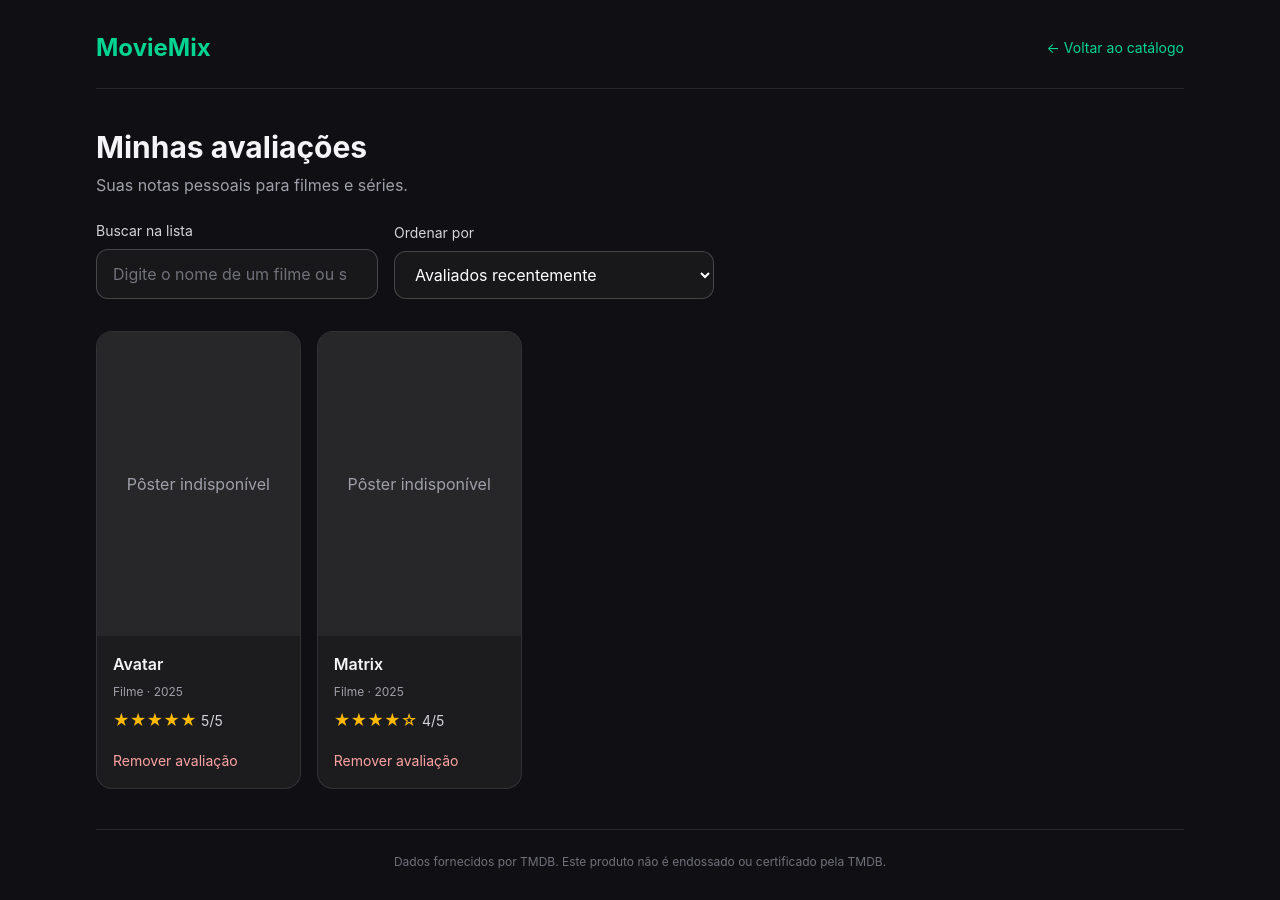
Test: busca nas listas pessoais › busca nas avaliações
Expected: the heading "Matrix" is shown, [334,654,383,674]
Type "inexistente" into the search field labelled "Buscar na lista".
click(237, 274); type("inexistente")  # box [96,249,378,299]
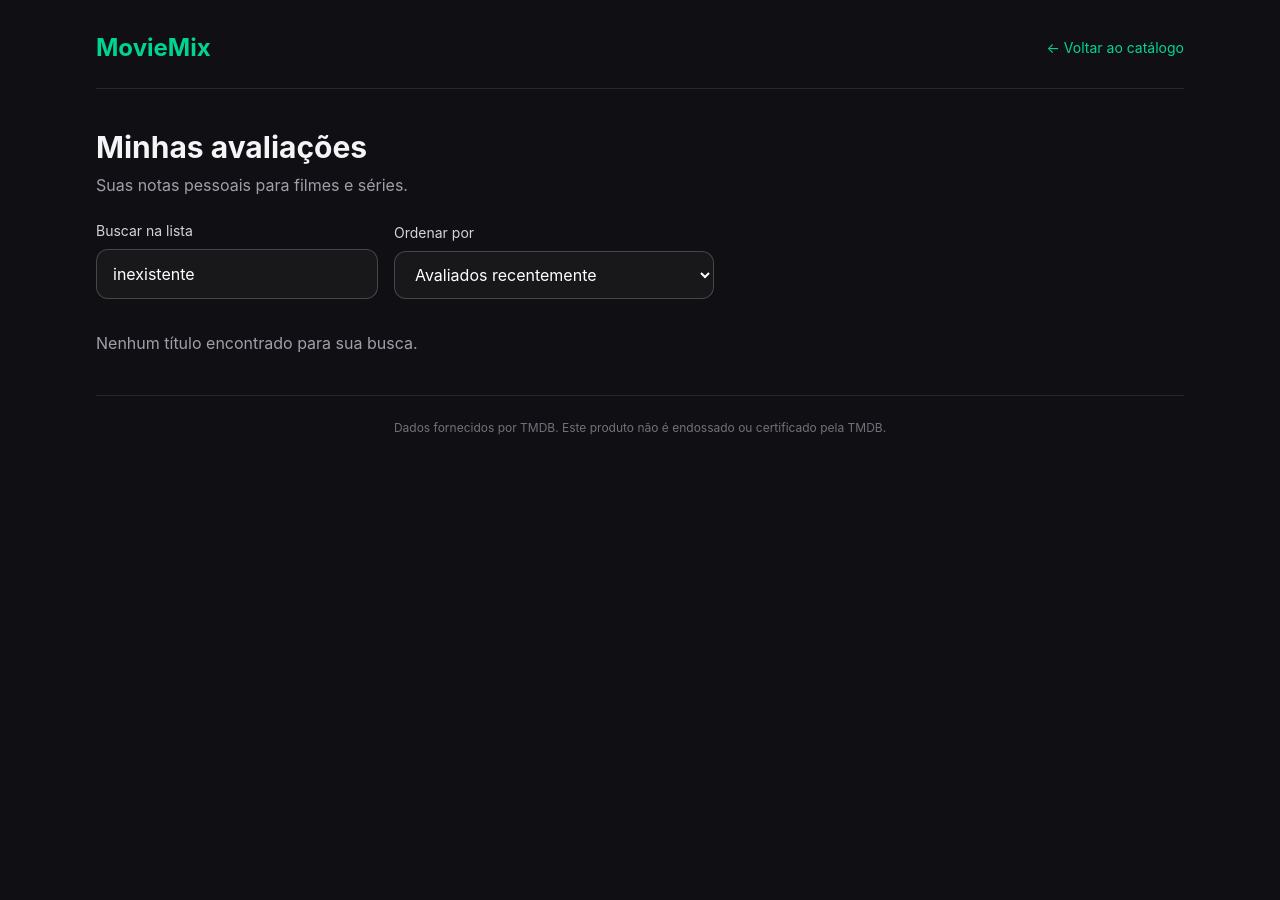
Result: the text "Nenhum título encontrado para sua busca." is shown at [96,333,418,353]
